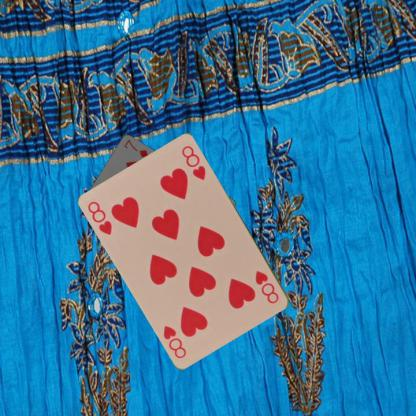8h: (85, 198, 114, 238), (252, 268, 281, 305)
